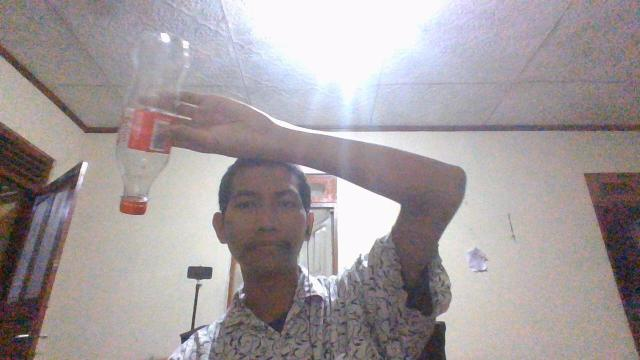coca-cola: (113, 30, 193, 216)
